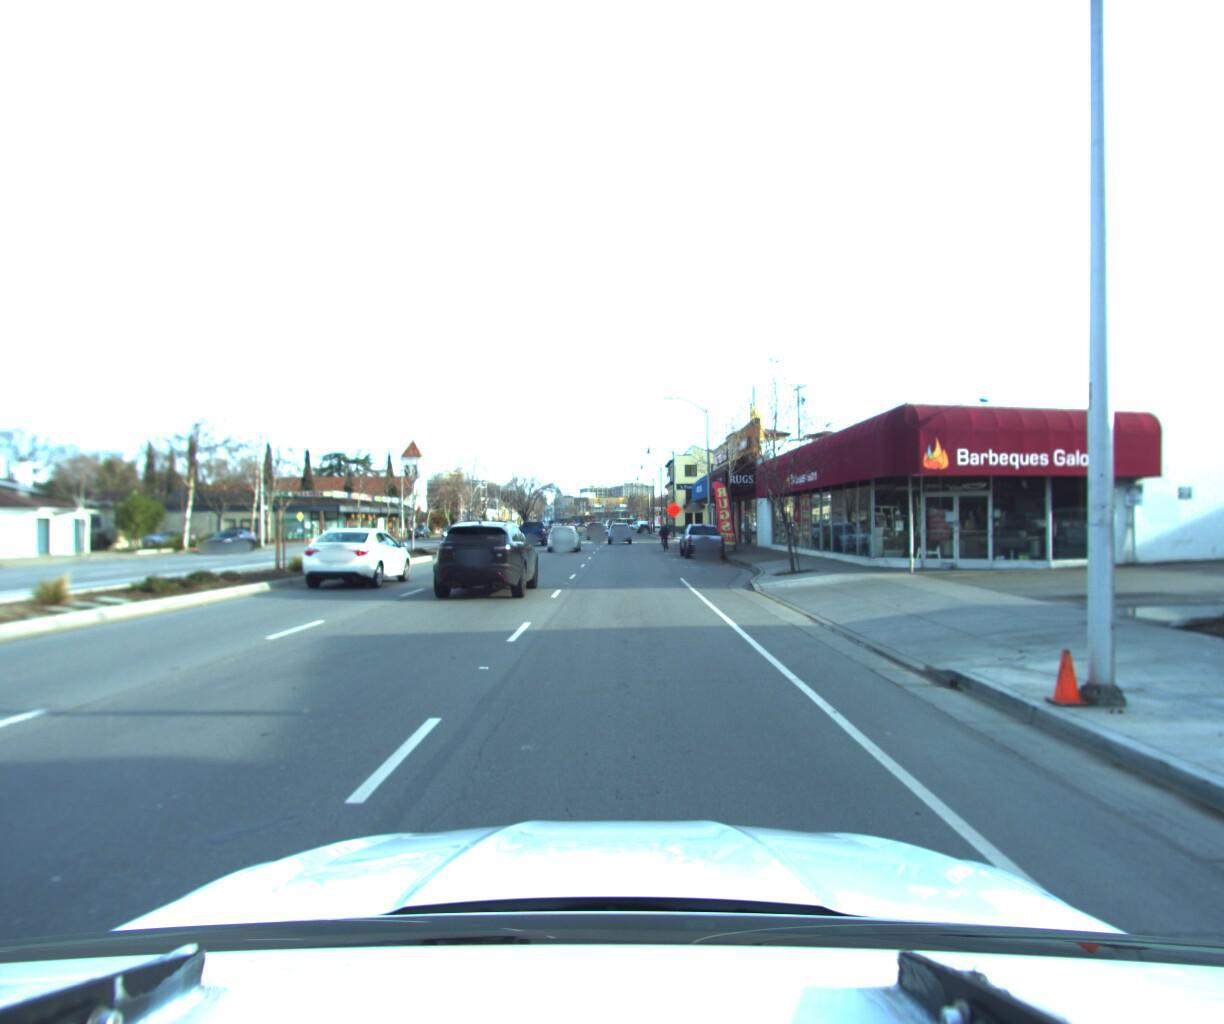bicycle: (655, 516, 672, 546)
car: (430, 508, 541, 599), (296, 520, 416, 590), (679, 518, 727, 557), (202, 526, 262, 553), (543, 515, 582, 550), (517, 517, 551, 542), (607, 517, 633, 540), (586, 517, 607, 536)
